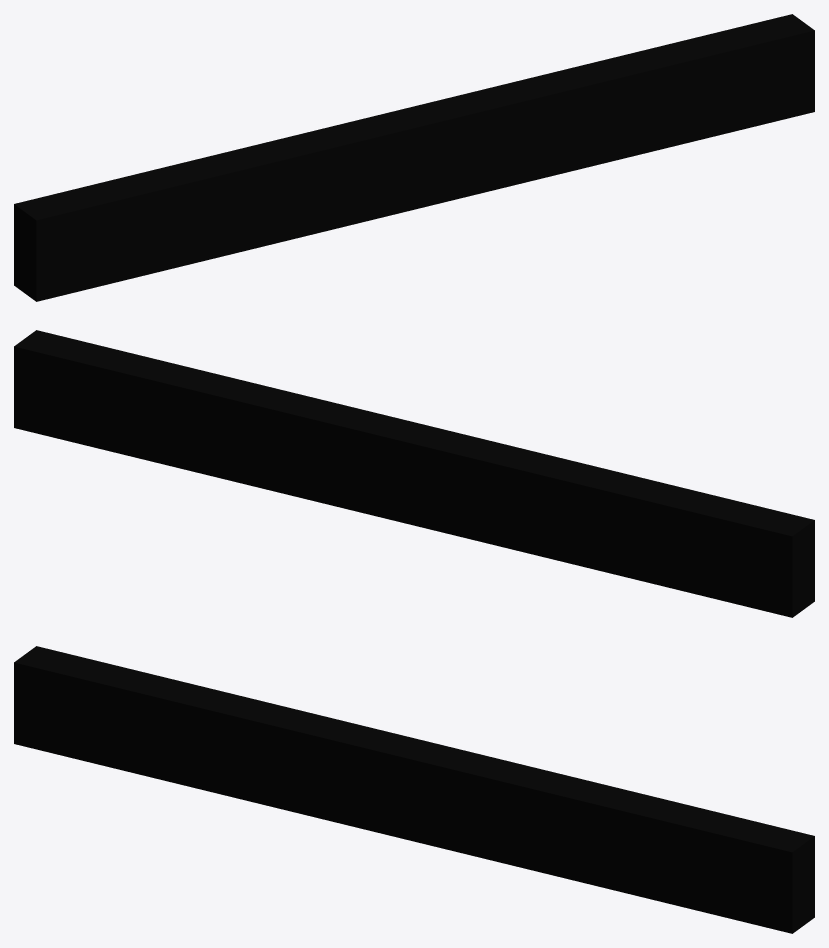
Rendered from Gauge_ZombieSkin_Thin_Full.002.fbx.
3 renders of one model, top to bottom at view 1: azimuth 30°, elevation 25°; view 2: azimuth 150°, elevation 25°; view 3: azimuth 330°, elevation 25°, orthographic.
Parts seen in each view (by area): view 1: Gauge_ZombieSkin_Thin_Full.002; view 2: Gauge_ZombieSkin_Thin_Full.002; view 3: Gauge_ZombieSkin_Thin_Full.002.
Boxes of the visible parts, left/top/right/bottom form: Gauge_ZombieSkin_Thin_Full.002: left=14, top=14, right=814, bottom=301; Gauge_ZombieSkin_Thin_Full.002: left=14, top=330, right=814, bottom=617; Gauge_ZombieSkin_Thin_Full.002: left=14, top=646, right=814, bottom=933.
Size of the model in its own units: 2 by 0.2 by 0.1.
